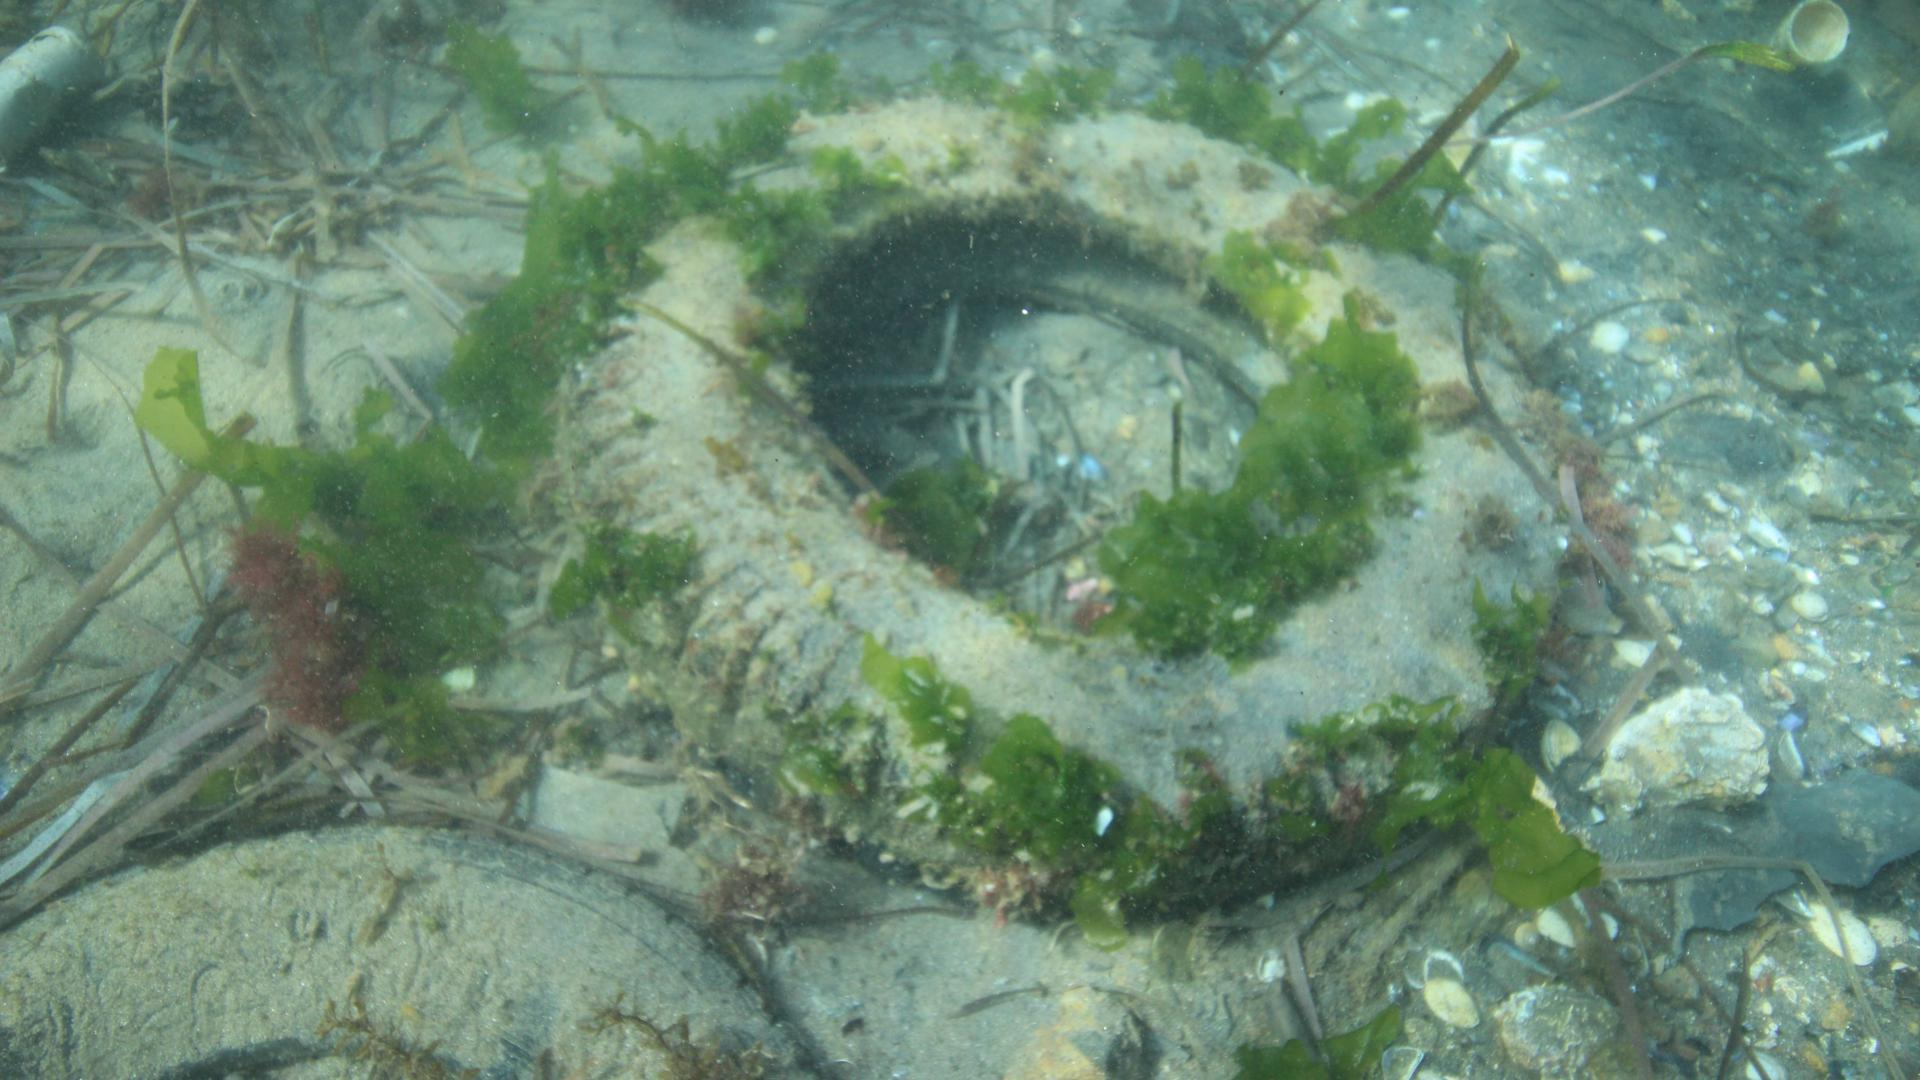tire: (554, 91, 1571, 930)
